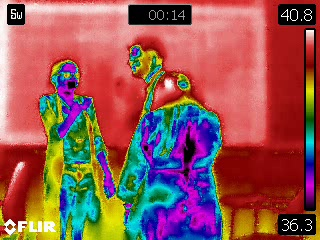human: (119, 72, 228, 240), (38, 59, 117, 240), (119, 33, 167, 117)
